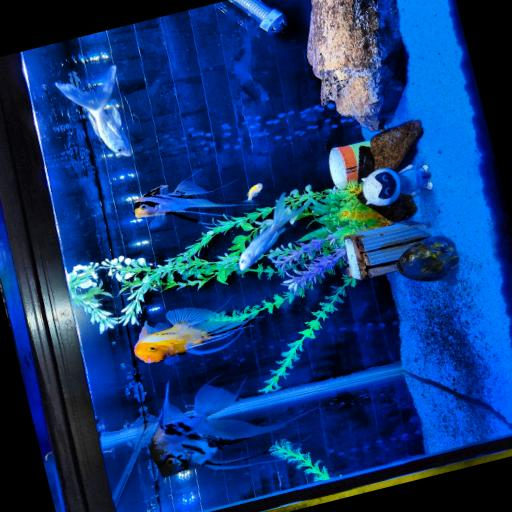Fish: (151, 383, 284, 476), (56, 65, 132, 155), (134, 307, 249, 363), (239, 193, 310, 270), (133, 179, 238, 228), (245, 183, 262, 201)
